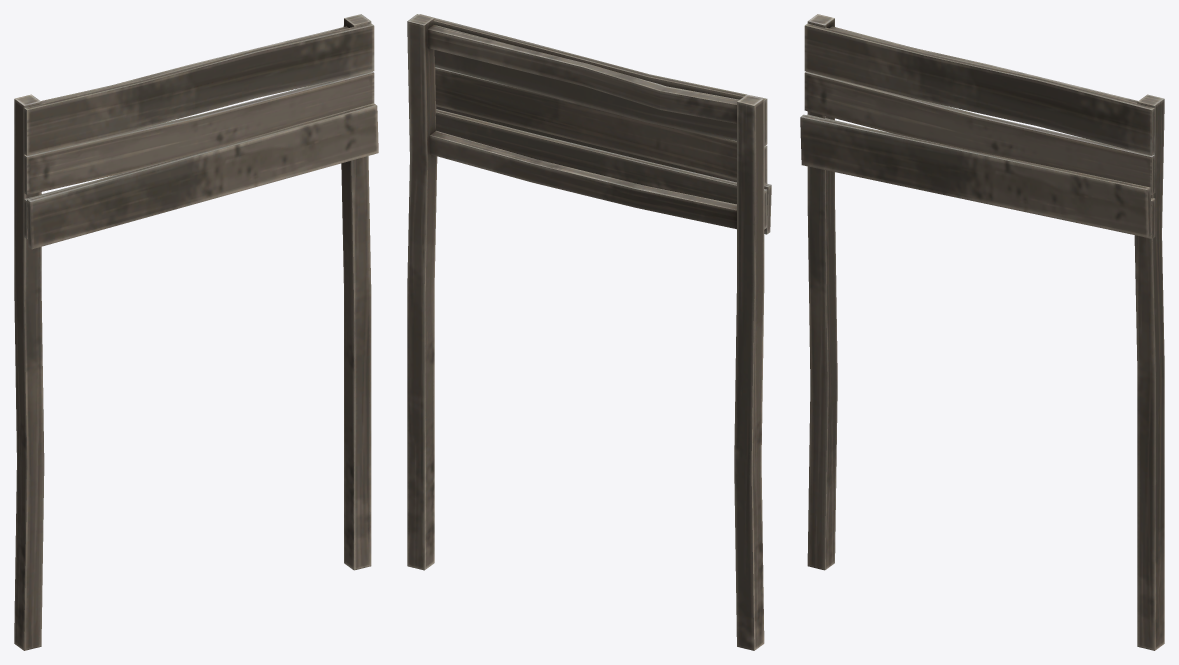
Rendered from Wood_Door_2x.glb.
3 views of the same model, side by side, from view 1: azimuth 30°, elevation 25°; view 2: azimuth 150°, elevation 25°; view 3: azimuth 330°, elevation 25° (orthographic).
Visible parts, largest first — view 1: Wood_Door_2x; view 2: Wood_Door_2x; view 3: Wood_Door_2x.
Part boxes in pixels (box(x1,y1,x2,y2)): Wood_Door_2x: box(14, 14, 378, 650); Wood_Door_2x: box(407, 14, 771, 650); Wood_Door_2x: box(800, 14, 1164, 650).
Size of what is drawn, in the model's own units: 2.01 by 3 by 0.1679.
Materials: 1 (1 with a texture image).
